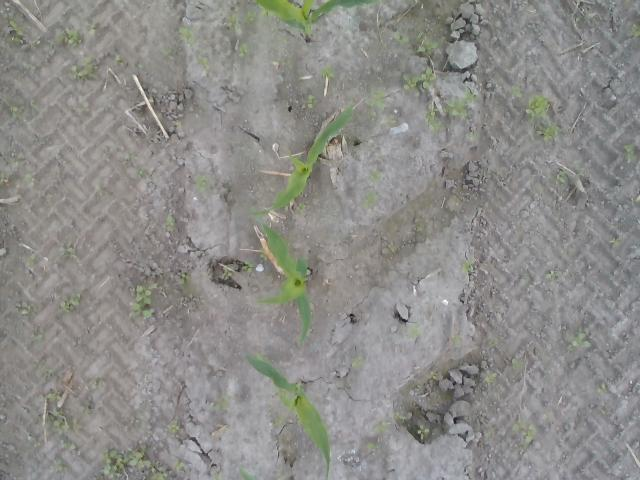Maize: (250, 102, 354, 218), (240, 353, 332, 480), (256, 222, 314, 345), (254, 0, 380, 44)
Weeds: (96, 446, 152, 480), (444, 86, 480, 119), (401, 63, 436, 96), (128, 284, 158, 320), (36, 410, 81, 433), (408, 30, 440, 57), (0, 12, 24, 47), (512, 418, 538, 450), (423, 102, 449, 134), (46, 27, 80, 48), (68, 55, 96, 80), (526, 94, 552, 118), (567, 330, 592, 352), (542, 118, 560, 142), (367, 86, 385, 110), (61, 292, 81, 312), (403, 319, 422, 338), (206, 395, 228, 411), (2, 102, 24, 118), (270, 27, 288, 46), (179, 26, 193, 48), (224, 14, 240, 33), (623, 142, 638, 162), (319, 63, 336, 80), (302, 93, 318, 111), (159, 46, 177, 62), (237, 38, 250, 59), (168, 418, 185, 434), (360, 190, 376, 207), (162, 214, 176, 232), (176, 270, 190, 288), (196, 174, 210, 192), (30, 330, 48, 344), (58, 240, 73, 256), (149, 467, 167, 480), (38, 392, 61, 402), (392, 30, 408, 44), (374, 420, 392, 432), (172, 457, 186, 472), (351, 352, 364, 368), (278, 395, 294, 408), (242, 12, 256, 26), (196, 55, 210, 69), (271, 415, 286, 428), (510, 82, 522, 98), (628, 22, 640, 38), (393, 410, 407, 423), (368, 168, 381, 182), (555, 168, 566, 184), (37, 368, 56, 377), (240, 260, 252, 274), (18, 306, 33, 317), (544, 270, 560, 280), (484, 372, 496, 384), (222, 266, 232, 280), (466, 131, 480, 141), (54, 459, 64, 473), (462, 260, 474, 271), (113, 54, 124, 66), (22, 173, 33, 185), (416, 424, 429, 434), (30, 36, 40, 49), (511, 358, 523, 368), (450, 334, 462, 344), (608, 237, 620, 247), (596, 382, 606, 394), (368, 442, 382, 450), (295, 203, 305, 214), (63, 442, 76, 450), (430, 371, 441, 380), (260, 251, 268, 263), (260, 9, 272, 17), (212, 472, 224, 480), (367, 111, 376, 121), (488, 339, 497, 348), (86, 24, 96, 32), (0, 173, 8, 183), (134, 168, 144, 176), (136, 63, 146, 70), (609, 0, 615, 10), (634, 194, 640, 203)
